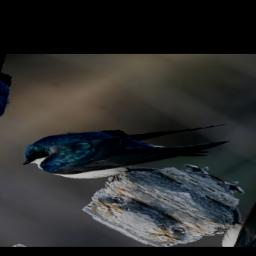Swallow: (7, 82, 248, 208)
